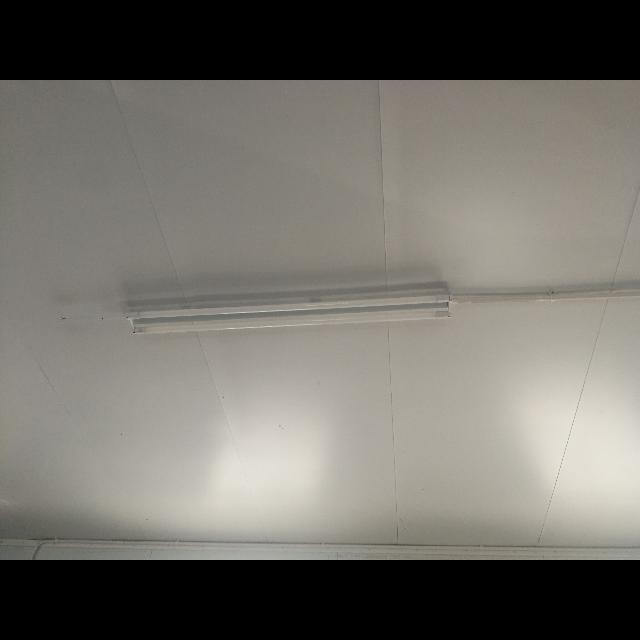Straight-Tube-Fluorescent-Lamp: (122, 286, 458, 352)
